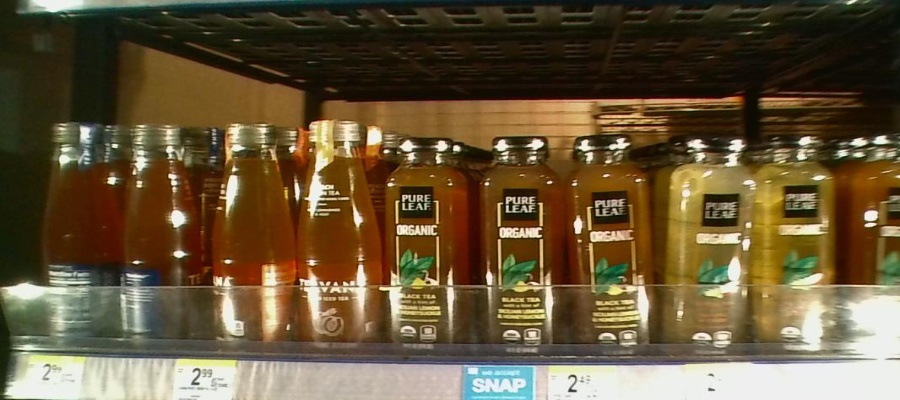bottle: (565, 127, 658, 360), (382, 133, 471, 352), (667, 132, 756, 351), (299, 116, 383, 348), (480, 134, 563, 360), (213, 119, 297, 340), (122, 124, 200, 346), (759, 131, 836, 350), (42, 124, 117, 344), (841, 132, 900, 355)
